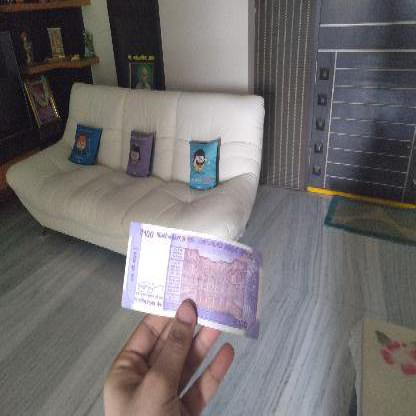New100Back: (122, 224, 266, 339)
